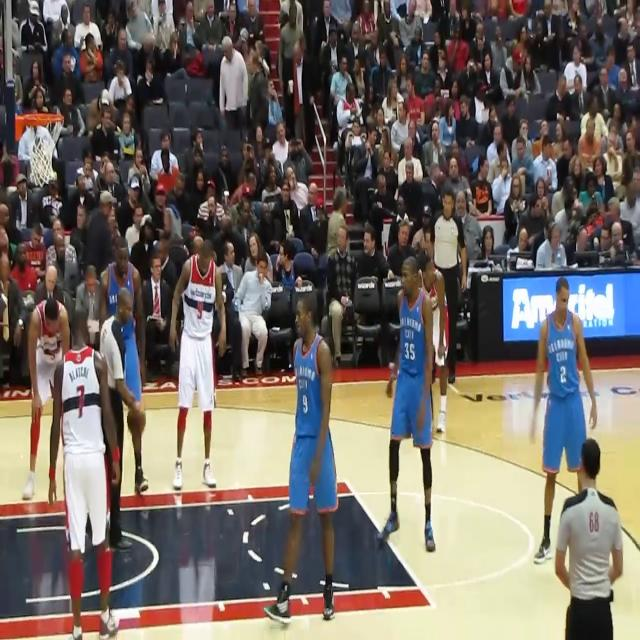ball: (127, 402, 147, 436)
